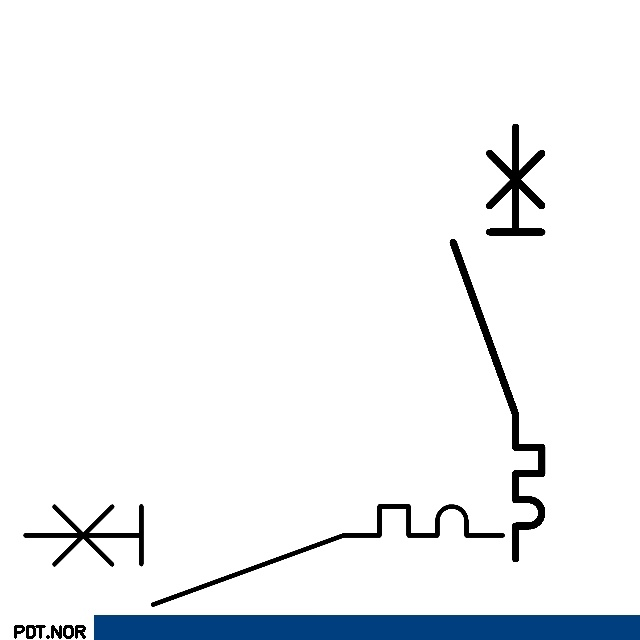interruptor_termomagnetico: (13, 494, 515, 617), (442, 116, 553, 570)
